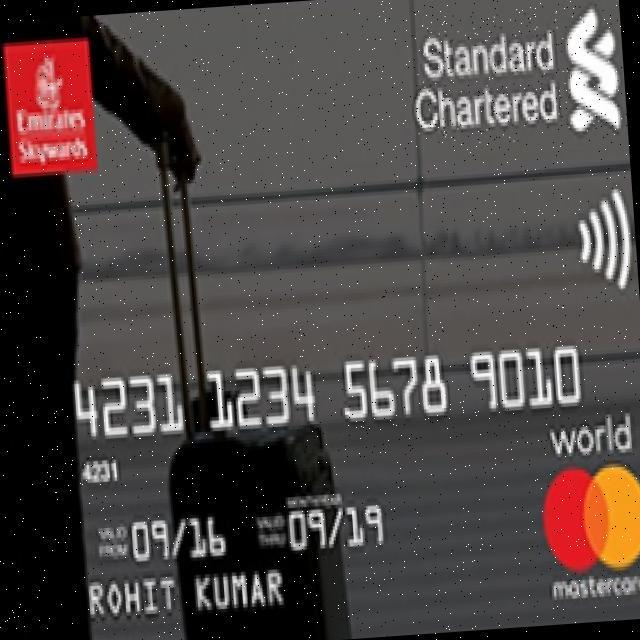Standard Chartered: (409, 1, 624, 149)
